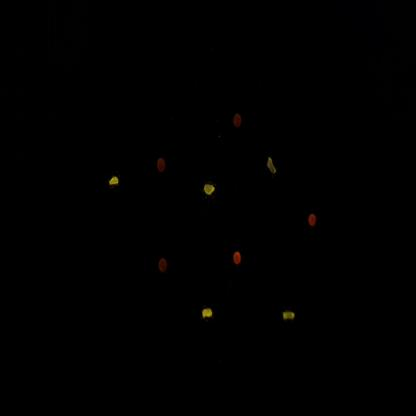PP: (258, 144, 287, 194), (100, 164, 132, 202), (276, 294, 303, 339), (193, 296, 223, 330), (200, 170, 224, 211)
PS: (223, 239, 251, 280), (298, 201, 326, 241), (226, 101, 252, 144), (151, 245, 176, 288), (150, 145, 175, 187)
